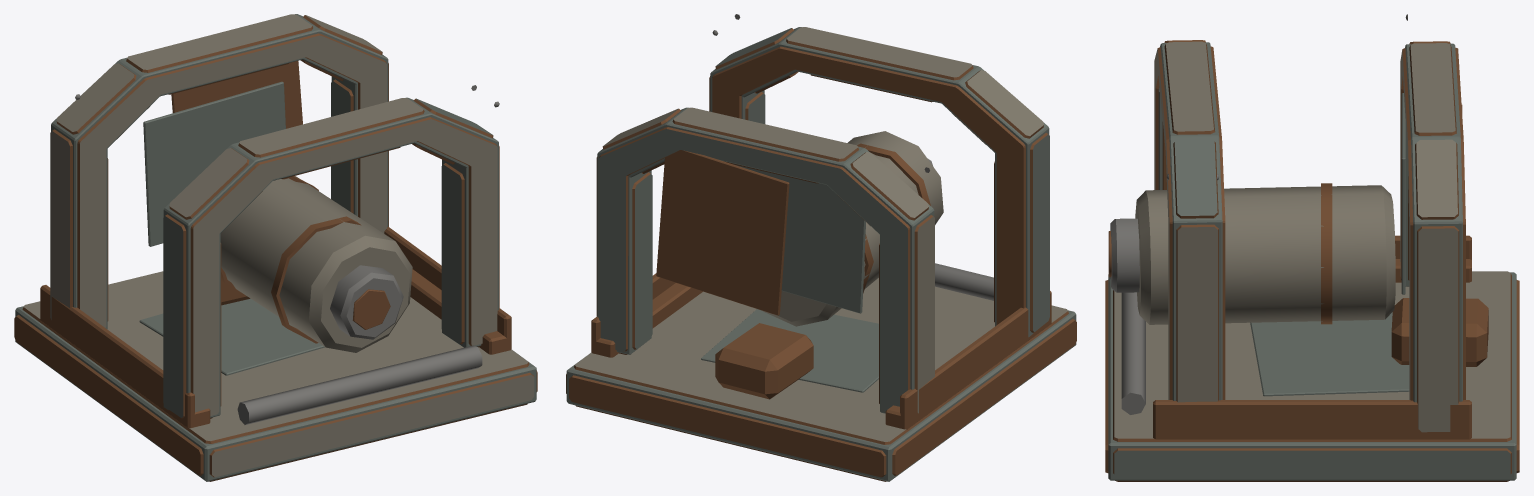
File: R4X_WeaponDurabilityBooster.fbx
The picture shows the model from 3 angles, left to right: view 1: azimuth 30°, elevation 25°; view 2: azimuth 150°, elevation 25°; view 3: azimuth 270°, elevation 25°; orthographic projection. The views are drawn at different scales.
Visible parts, largest first — view 1: R4X_WeaponDurabilityBooster_Body; view 2: R4X_WeaponDurabilityBooster_Body; view 3: R4X_WeaponDurabilityBooster_Body.
Boxes of the visible parts, left/top/right/bottom form: R4X_WeaponDurabilityBooster_Body: left=14, top=14, right=537, bottom=481; R4X_WeaponDurabilityBooster_Body: left=566, top=14, right=1076, bottom=481; R4X_WeaponDurabilityBooster_Body: left=1105, top=14, right=1519, bottom=481.
Bounding box in the file's own units: 0.52 × 0.43 × 0.52.
